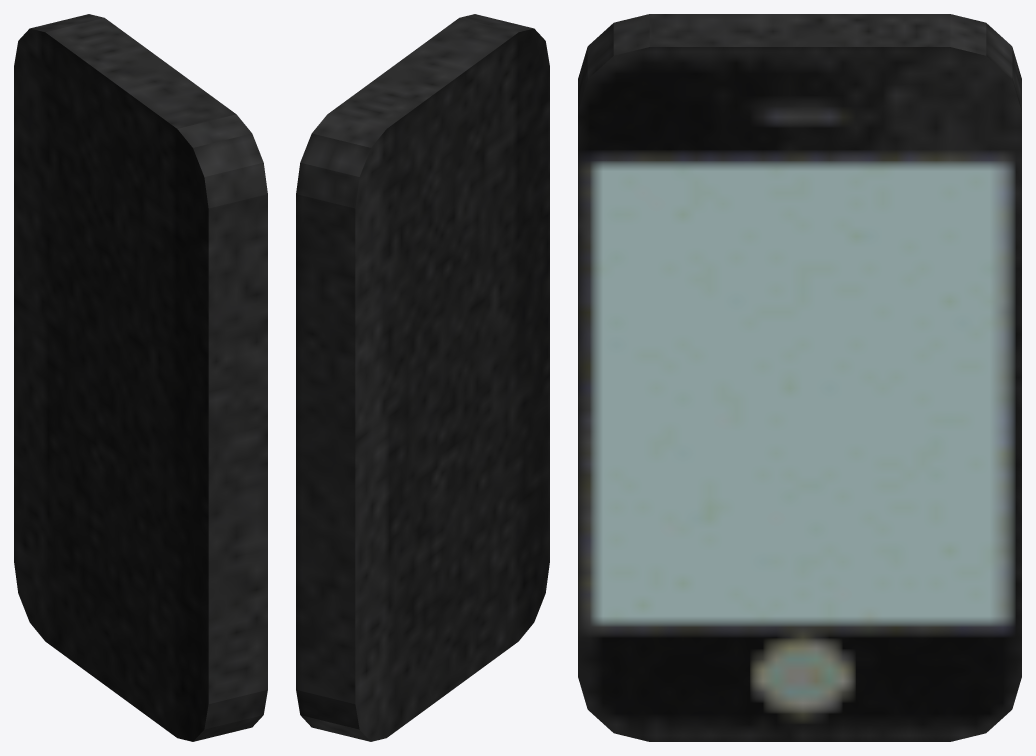
File: Phone.fbx
3 renders of one model, left to right at view 1: azimuth 30°, elevation 25°; view 2: azimuth 150°, elevation 25°; view 3: azimuth 270°, elevation 25°, orthographic. The views are drawn at different scales.
Visible parts, largest first — view 1: Phone; view 2: Phone; view 3: Phone.
Boxes of the visible parts, x1,y1,x2,y2 form: Phone: (14, 14, 267, 741); Phone: (296, 14, 549, 741); Phone: (578, 14, 1021, 741).
Size of the model in its own units: 0.021 by 0.2056 by 0.119.
